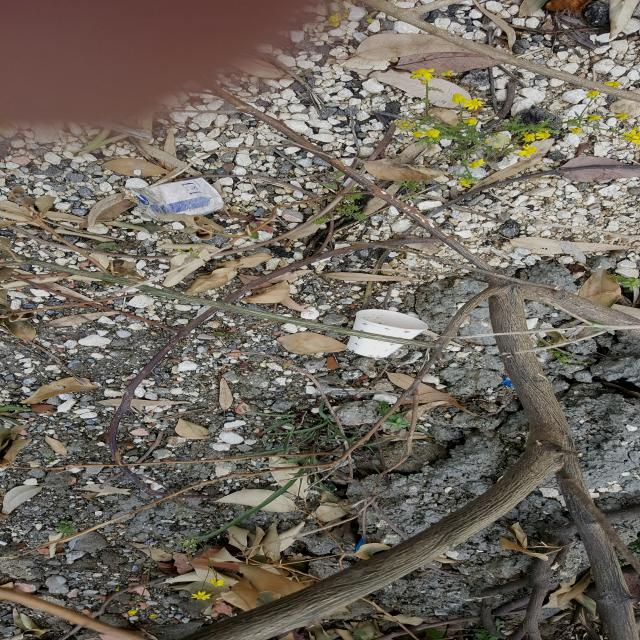Aluminium foil: (119, 187, 140, 204)
Other carton: (129, 177, 224, 222)
Paper cup: (347, 309, 429, 358)
Plastic film: (323, 387, 378, 396)
